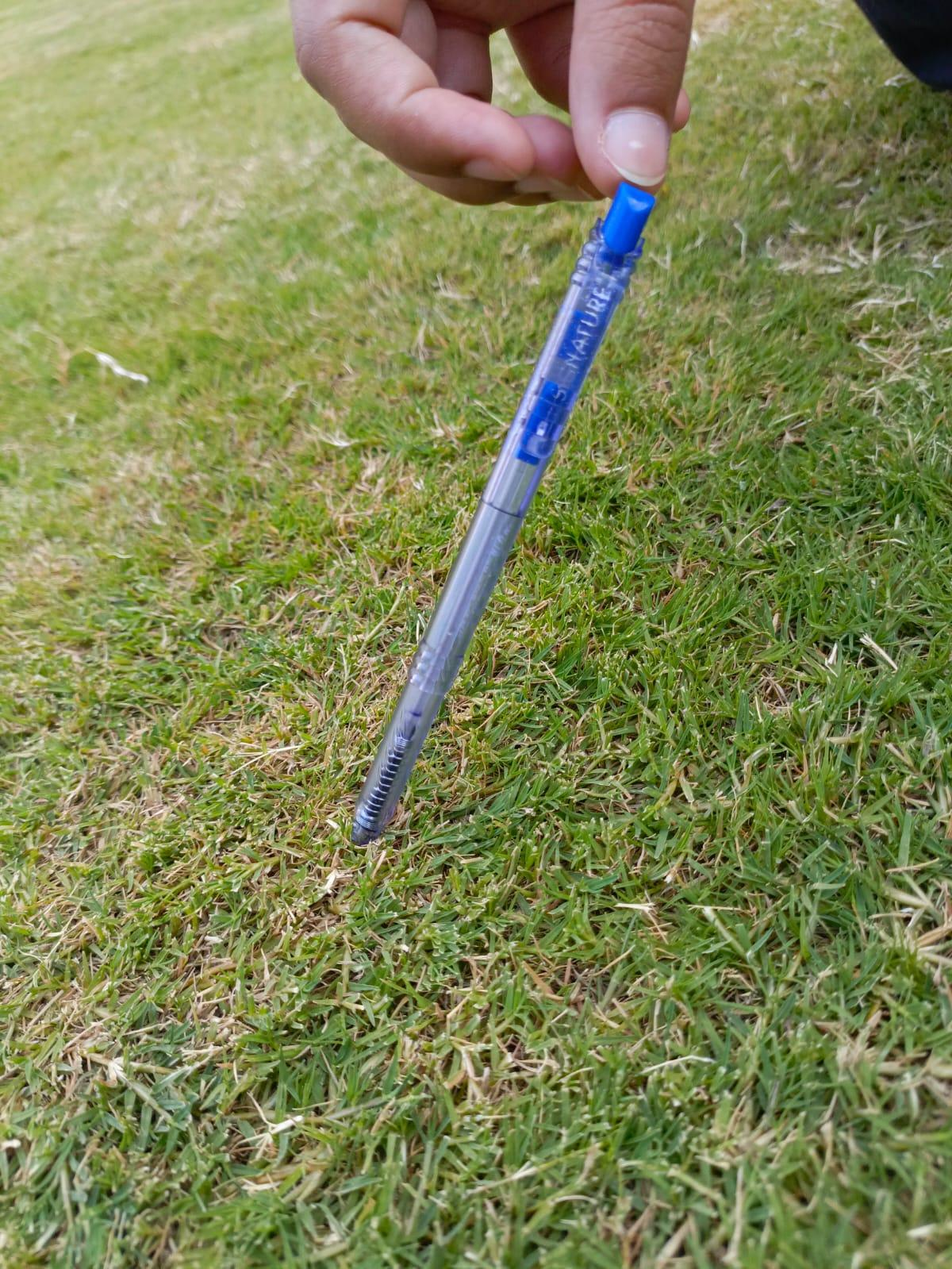ballpoint: (353, 185, 654, 844)
